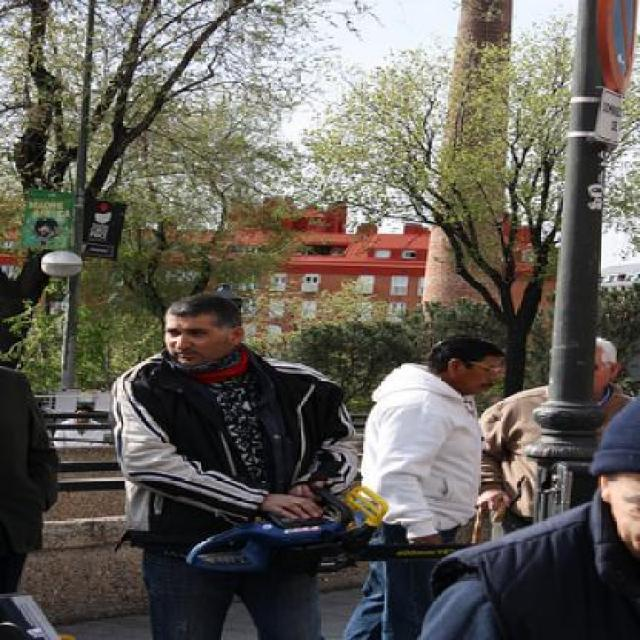Chainsaw: (183, 485, 474, 570)
